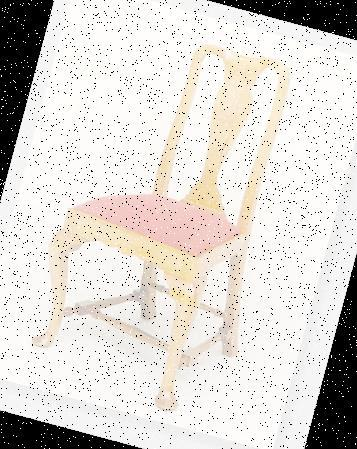Silla: (22, 16, 301, 423)
